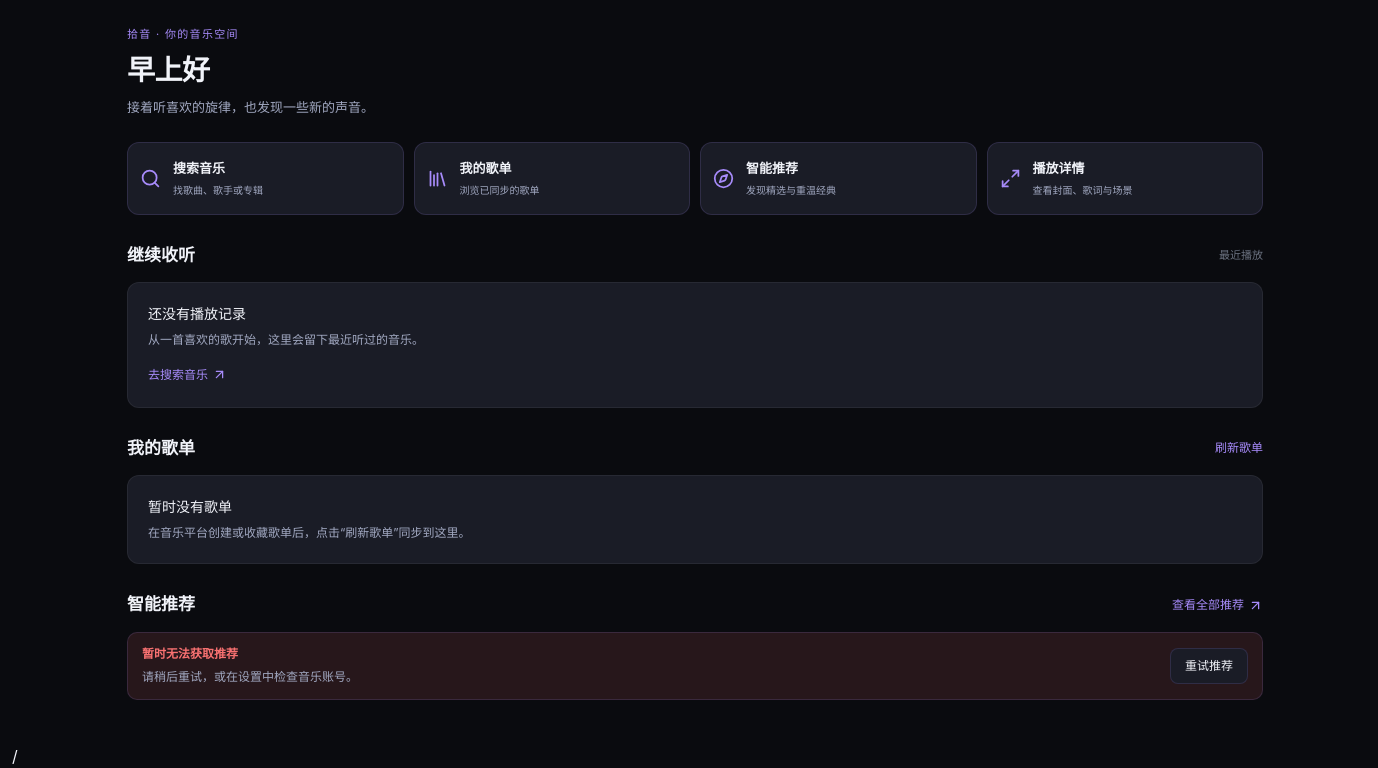
Test: 推荐失败不会自动循环请求，重试恢复后首页与详情共享结果
(page scrolled)
Check: the text "暂时无法获取推荐" is shown, box 142,646 -> 238,661
Click the button "重试推荐" at (1209, 666), box 1170,648 -> 1248,684
(page scrolled)
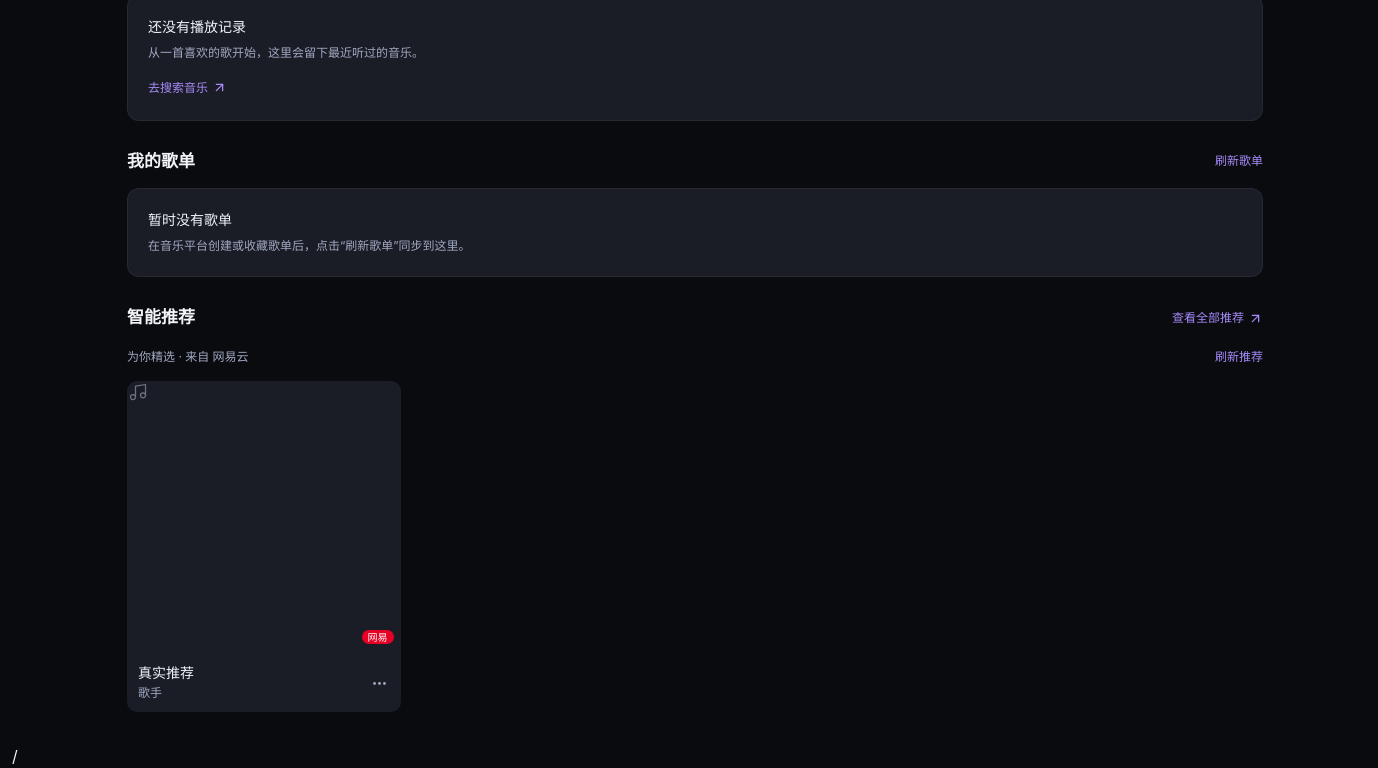
Check: the text "真实推荐" is shown, box 138,664 -> 194,682
